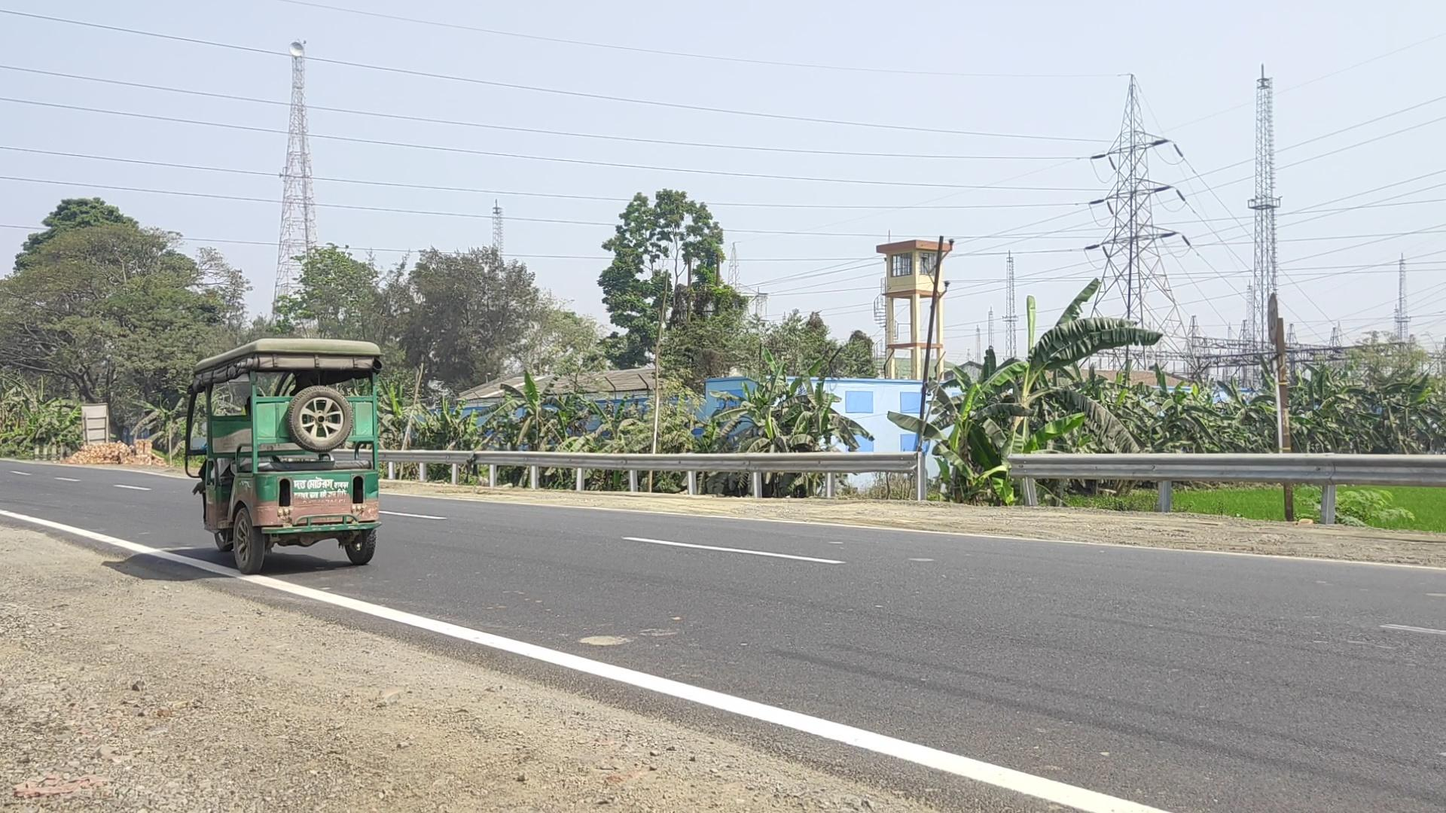Auto: (184, 337, 382, 576)
